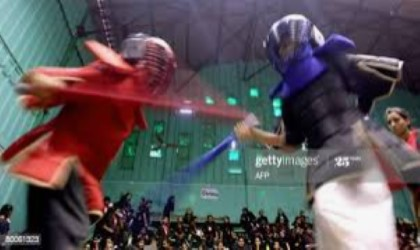baston_e: (133, 131, 229, 210), (33, 82, 222, 118)
baston_v: (8, 74, 26, 99), (245, 111, 266, 128), (227, 105, 245, 121)
